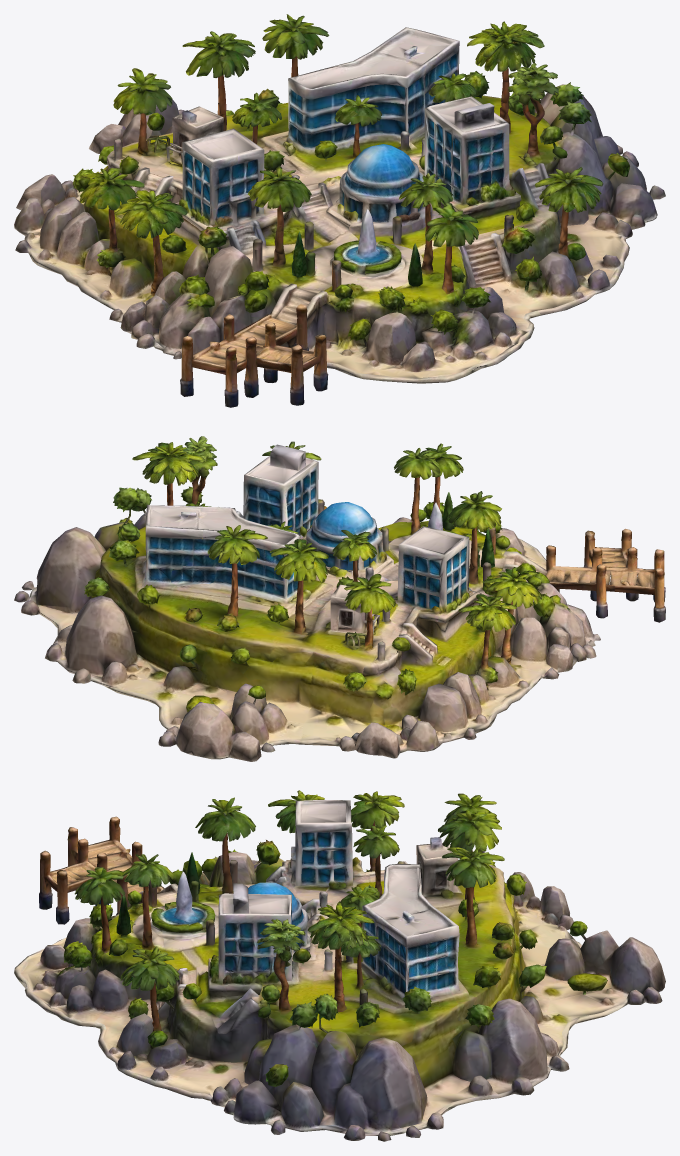
File: imoveis.glb
3 views of the same model, one above another, from view 1: azimuth 30°, elevation 25°; view 2: azimuth 150°, elevation 25°; view 3: azimuth 270°, elevation 25° (orthographic). The views are drawn at different scales.
Visible parts, largest first — view 1: tripo_node_32bb95e1-803b-4488-aa89-5d0851fcbc8b; view 2: tripo_node_32bb95e1-803b-4488-aa89-5d0851fcbc8b; view 3: tripo_node_32bb95e1-803b-4488-aa89-5d0851fcbc8b.
Boxes of the visible parts, bbox=[...] form: tripo_node_32bb95e1-803b-4488-aa89-5d0851fcbc8b: bbox=[14, 14, 665, 407]; tripo_node_32bb95e1-803b-4488-aa89-5d0851fcbc8b: bbox=[14, 436, 665, 761]; tripo_node_32bb95e1-803b-4488-aa89-5d0851fcbc8b: bbox=[14, 790, 665, 1141].
Size of the model in its own units: 0.9662 by 0.2829 by 0.9788.
Materials: 1 (1 with a texture image).
